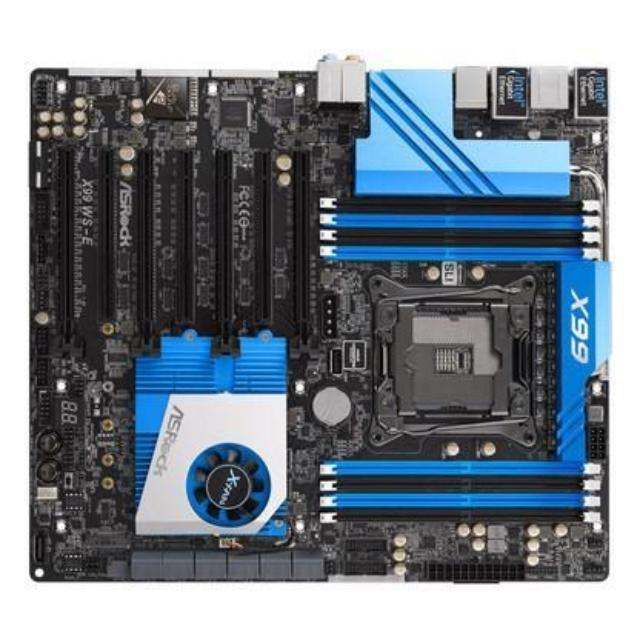Mainboard: (23, 54, 614, 591)
